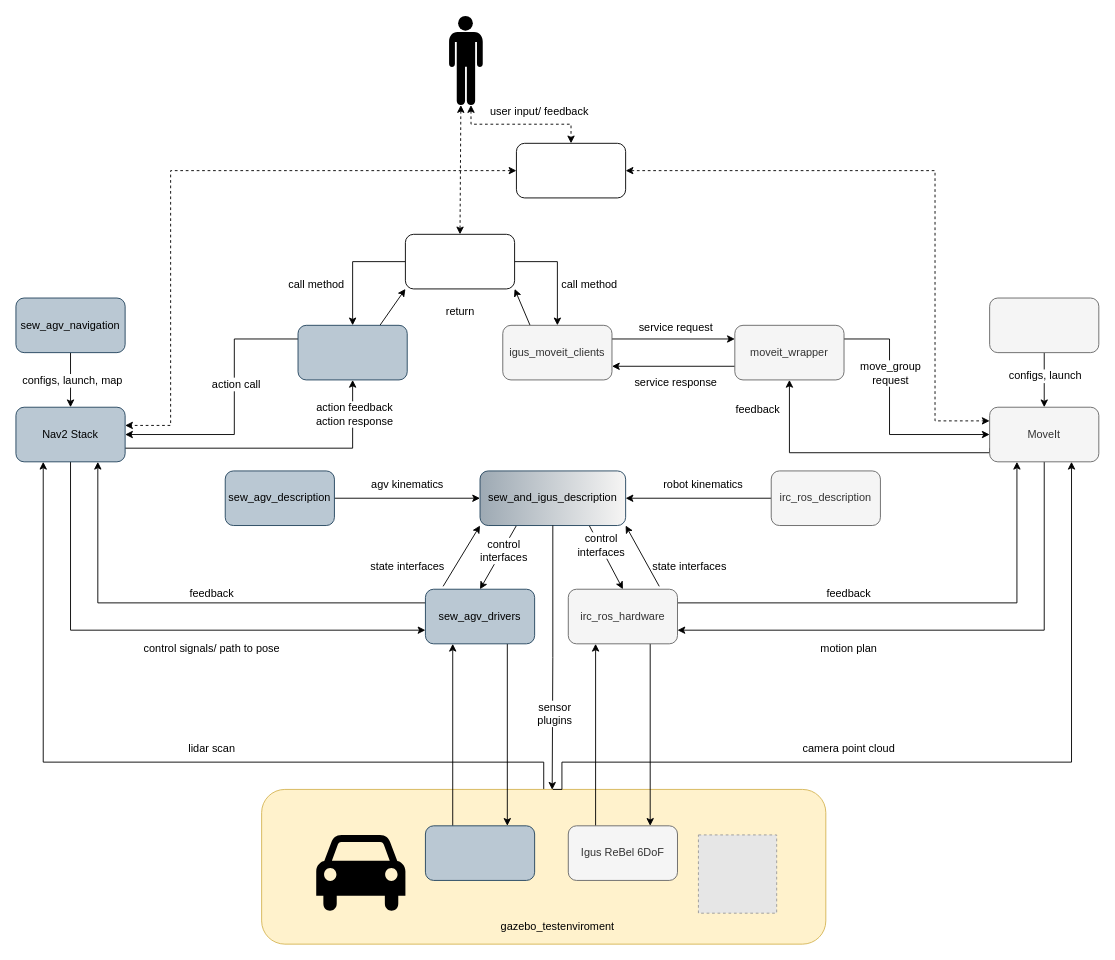
This 1115x960 diagram has some shape labels left out. Grey dashed boxes stand in for pictures. The centre of each missing label's shape, as x and y in pixels:
master application: (x=459, y=261)
RVIZ GUI: (x=571, y=170)
SEW-Maxo-MTS: (x=480, y=852)
sew_agv_clients: (x=352, y=352)
sew_and_igus_ moveit_config: (x=1044, y=325)
